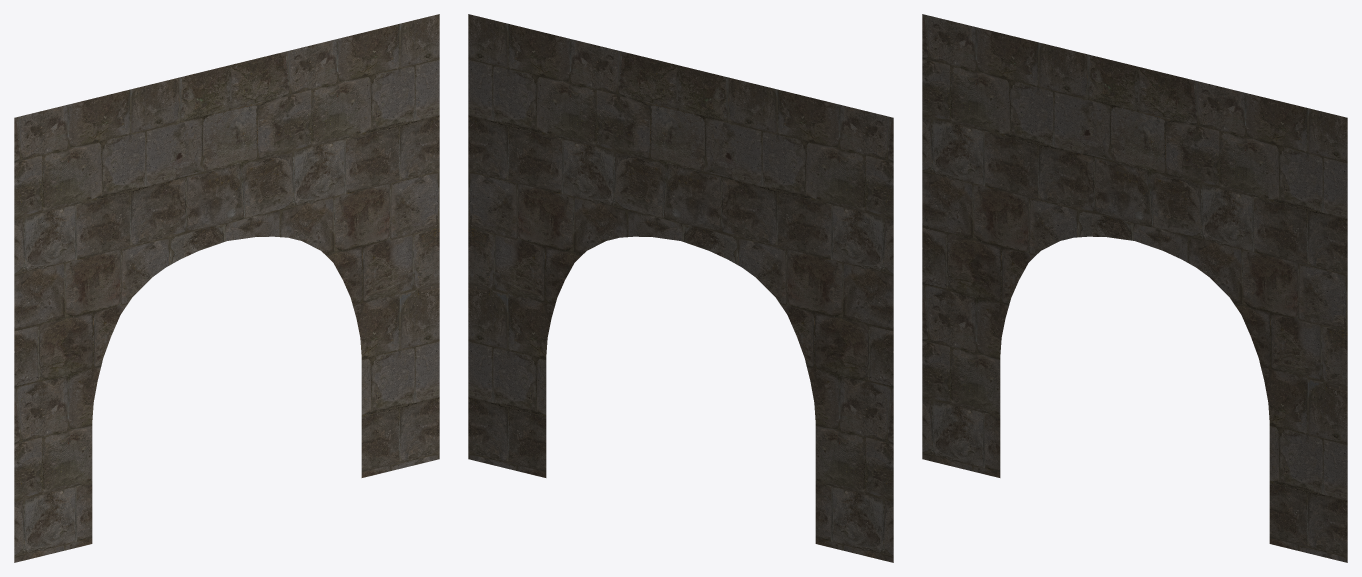
File: parede_porta_dupla_cburaco.fbx
3 renders of one model, left to right at view 1: azimuth 30°, elevation 25°; view 2: azimuth 150°, elevation 25°; view 3: azimuth 330°, elevation 25°, orthographic.
Parts seen in each view (by area): view 1: parededoArco; view 2: parededoArco; view 3: parededoArco.
Boxes of the visible parts, left/top/right/bottom form: parededoArco: left=14, top=14, right=439, bottom=562; parededoArco: left=468, top=14, right=893, bottom=562; parededoArco: left=922, top=14, right=1347, bottom=562.
Bounding box in the file's own units: 400 × 400 × 5.25e-05.
